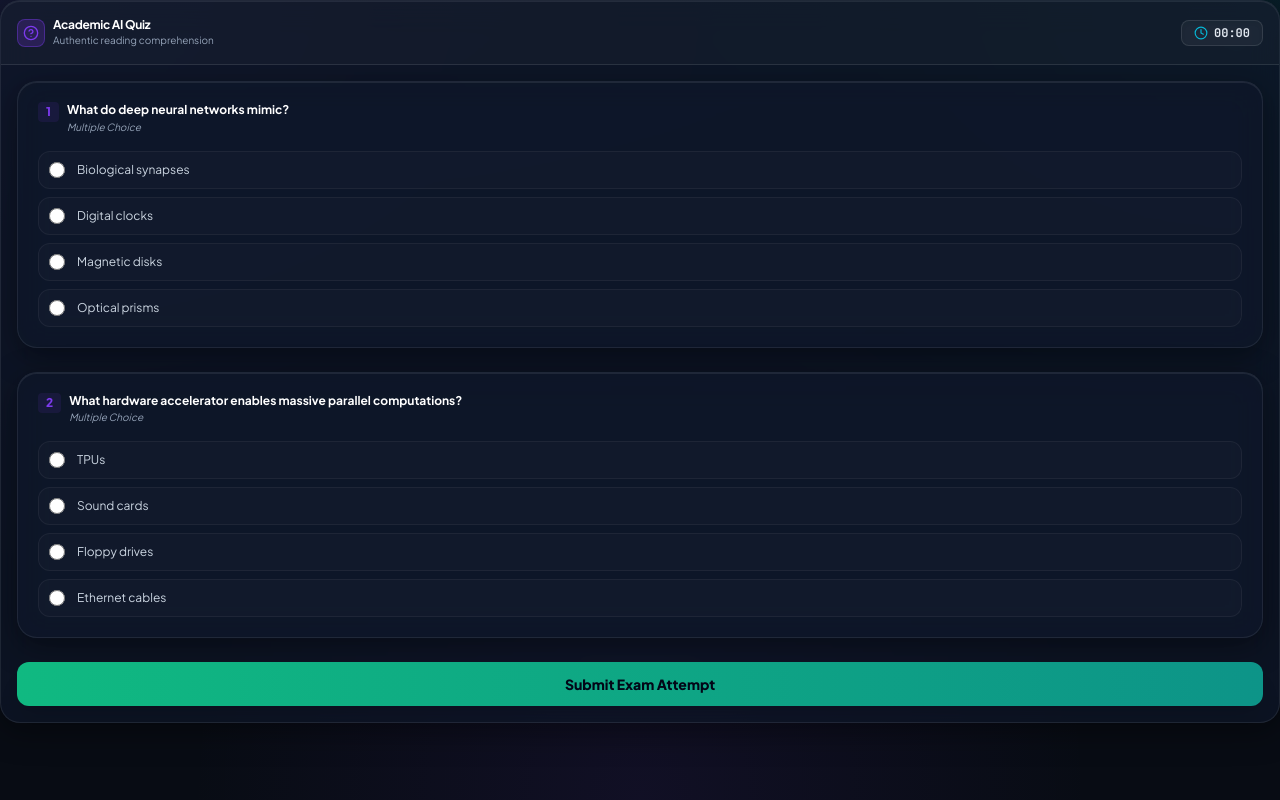
it: Reading Workspace UI/UX Test Suite (Senior QA) › allows answering questions and submitting quiz attempt with instant score feedback
expect the text "What do deep neural networks mimic?" is shown: met, box [67, 102, 289, 118]
Step 1. Click the text "Biological synapses" → (133, 170), box [77, 162, 190, 178]
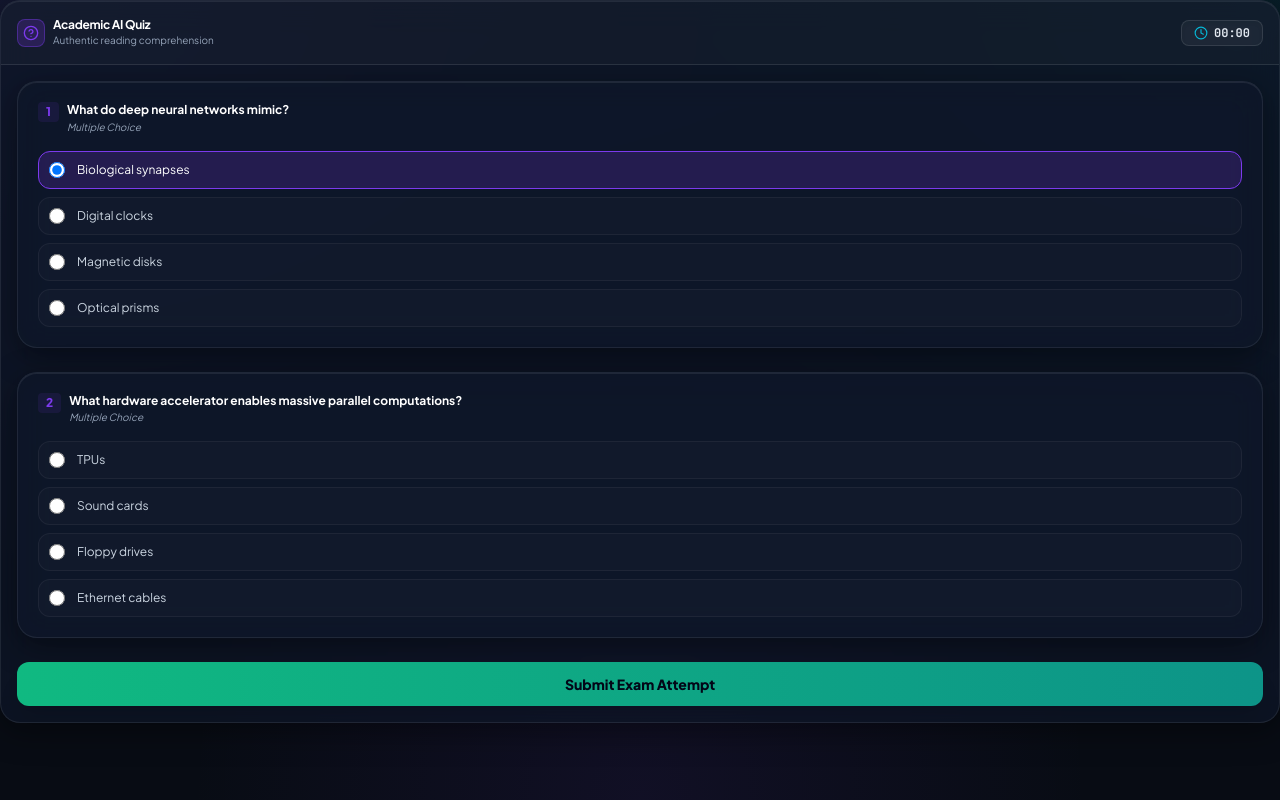
Step 2. Click the text "TPUs" → (91, 460), box [77, 452, 105, 468]
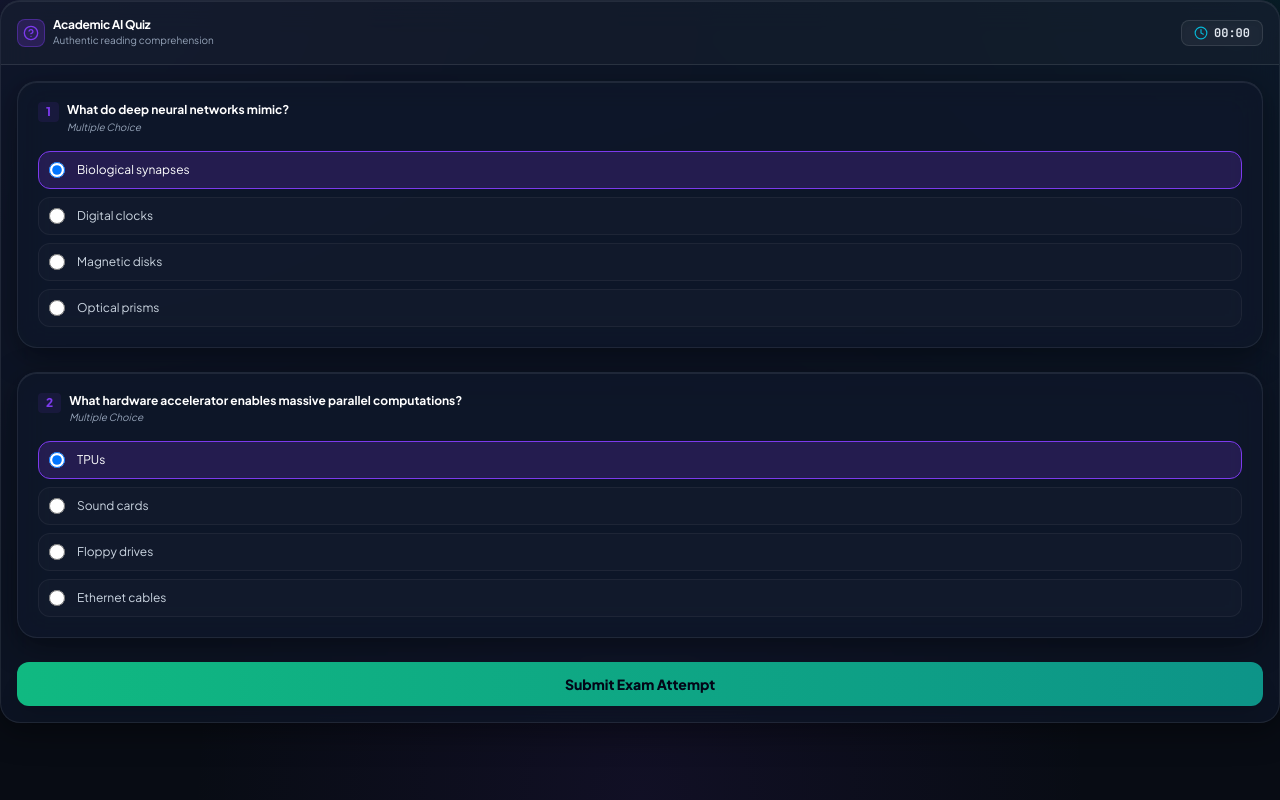
Step 3. Click the button "Submit Exam Attempt" → (640, 684), box [17, 662, 1263, 706]
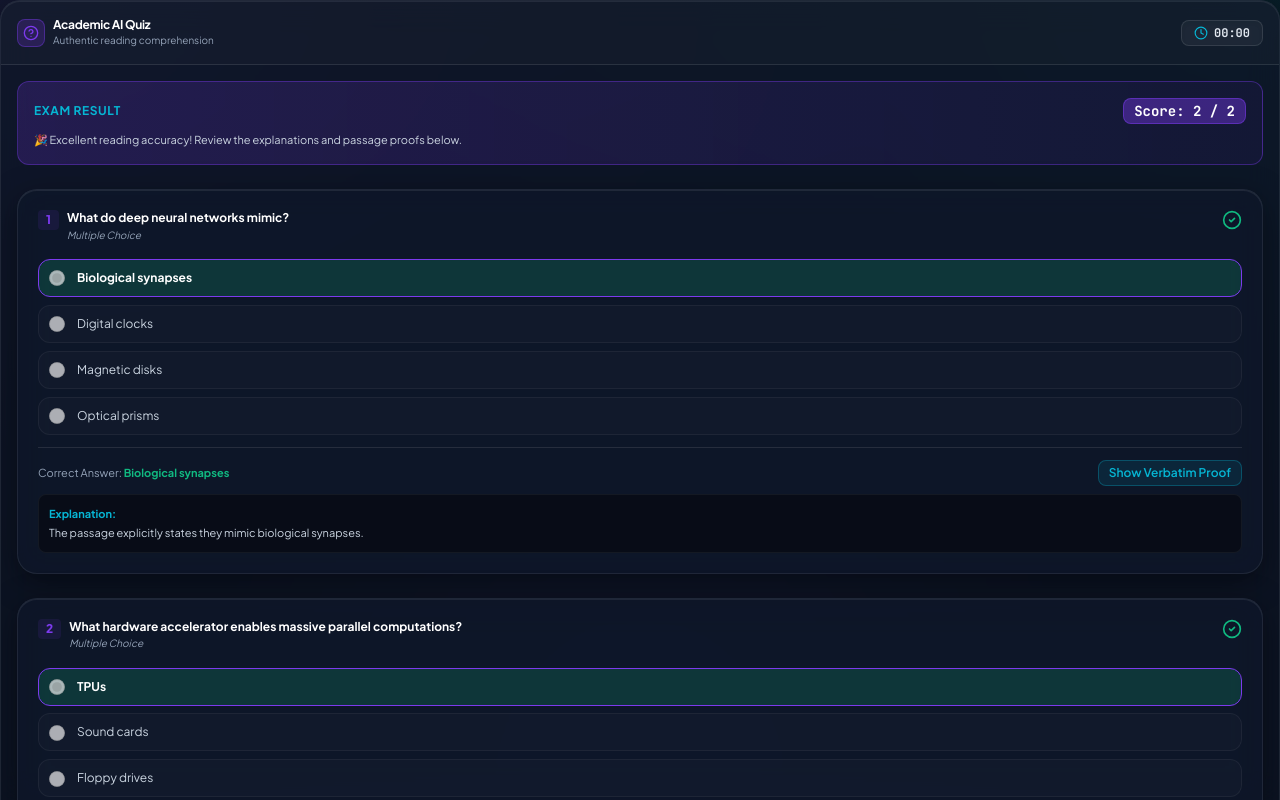
expect the text "Score: 2 / 2" is shown: met, box [1123, 98, 1246, 124]
